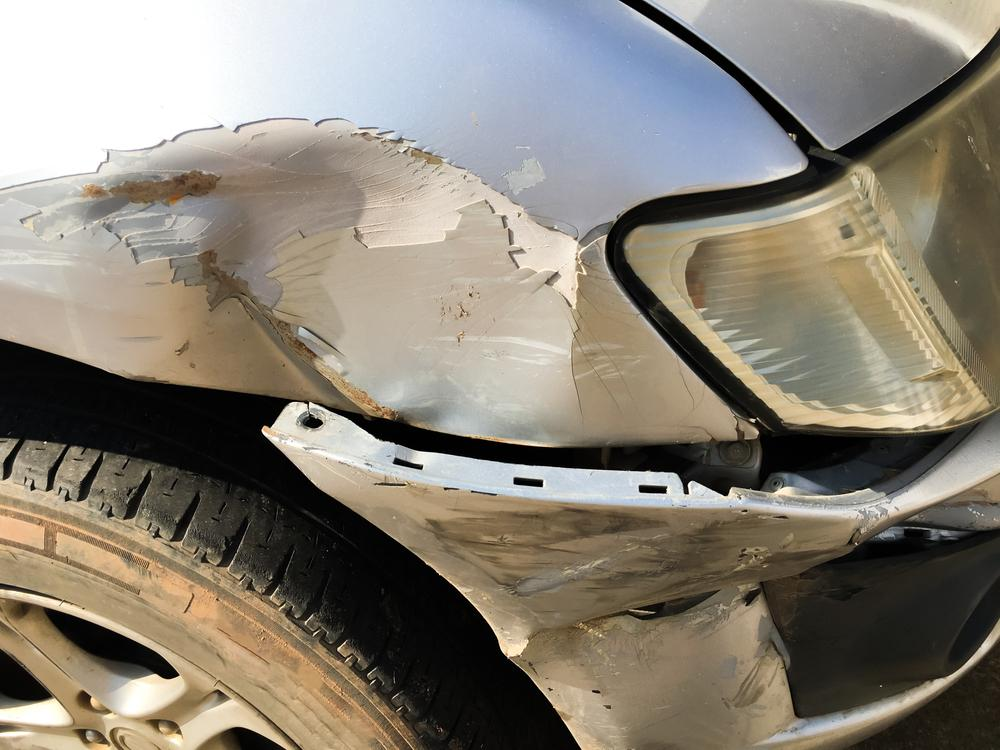dent: (0, 124, 752, 443)
scratch: (418, 498, 831, 750)
